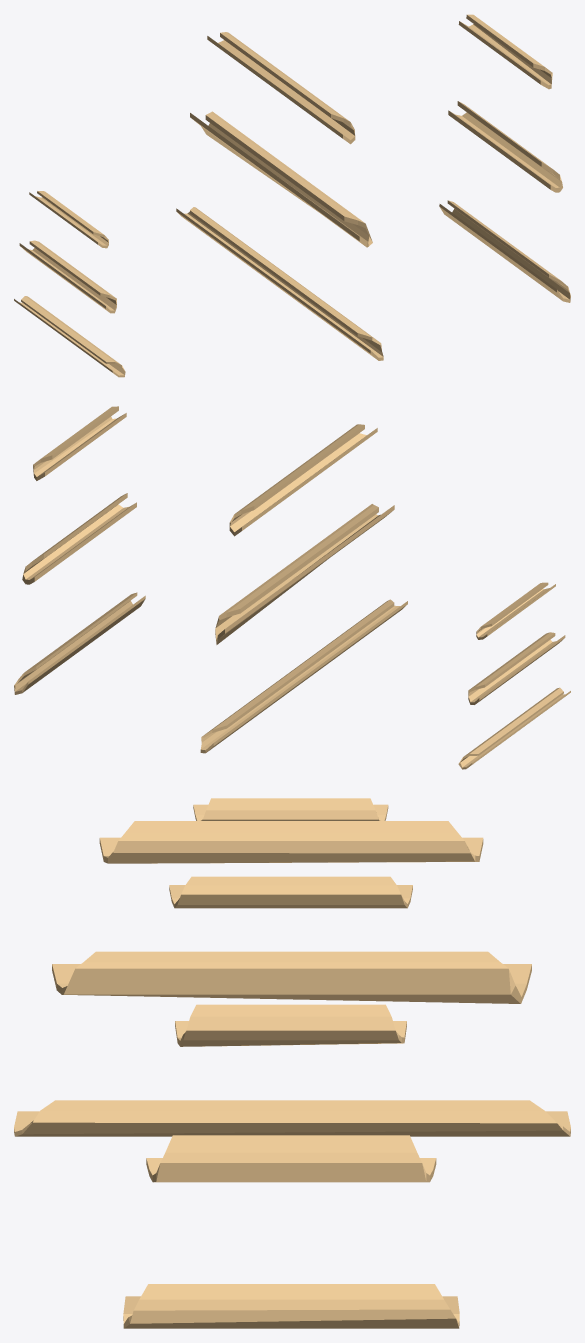
Rendered from SailsEmpty.fbx.
The picture shows the model from 3 angles, top to bottom: view 1: azimuth 30°, elevation 25°; view 2: azimuth 150°, elevation 25°; view 3: azimuth 270°, elevation 25°; orthographic projection. The views are drawn at different scales.
Visible parts, largest first — view 1: Sail Empty Mid 2, Sail Empty Mid 3, Sail Empty Mid 1, Sail Empty Front 3, Sail Empty Front 2, Sail Empty Front 1, Sail Empty Back 2, Sail Empty Back 3, Sail Empty Back 1; view 2: Sail Empty Mid 2, Sail Empty Mid 3, Sail Empty Mid 1, Sail Empty Front 3, Sail Empty Front 2, Sail Empty Front 1, Sail Empty Back 2, Sail Empty Back 3, Sail Empty Back 1; view 3: Sail Empty Mid 2, Sail Empty Mid 3, Sail Empty Mid 1, Sail Empty Front 3, Sail Empty Front 2, Sail Empty Front 1, Sail Empty Back 2, Sail Empty Back 1.
Boxes of the visible parts, bbox=[...] form: Sail Empty Mid 2: bbox=[190, 111, 372, 247]; Sail Empty Mid 3: bbox=[176, 207, 383, 360]; Sail Empty Mid 1: bbox=[207, 32, 355, 144]; Sail Empty Front 3: bbox=[439, 200, 570, 302]; Sail Empty Front 2: bbox=[448, 101, 562, 192]; Sail Empty Front 1: bbox=[458, 14, 552, 89]; Sail Empty Back 2: bbox=[19, 240, 116, 313]; Sail Empty Back 3: bbox=[14, 296, 125, 377]; Sail Empty Back 1: bbox=[29, 191, 108, 248]; Sail Empty Mid 2: bbox=[215, 504, 394, 644]; Sail Empty Mid 3: bbox=[200, 599, 407, 753]; Sail Empty Mid 1: bbox=[229, 424, 377, 536]; Sail Empty Front 3: bbox=[14, 592, 145, 694]; Sail Empty Front 2: bbox=[22, 493, 136, 584]; Sail Empty Front 1: bbox=[33, 406, 126, 480]; Sail Empty Back 2: bbox=[468, 632, 565, 704]; Sail Empty Back 3: bbox=[458, 687, 570, 769]; Sail Empty Back 1: bbox=[476, 582, 555, 639]; Sail Empty Mid 2: bbox=[52, 951, 531, 1003]; Sail Empty Mid 3: bbox=[14, 1100, 570, 1136]; Sail Empty Mid 1: bbox=[99, 821, 483, 863]; Sail Empty Front 3: bbox=[123, 1284, 459, 1328]; Sail Empty Front 2: bbox=[146, 1135, 436, 1182]; Sail Empty Front 1: bbox=[175, 1004, 406, 1046]; Sail Empty Back 2: bbox=[169, 876, 412, 908]; Sail Empty Back 1: bbox=[193, 798, 388, 820].
Size of the model in its own units: 8166 by 10849 by 5583.
